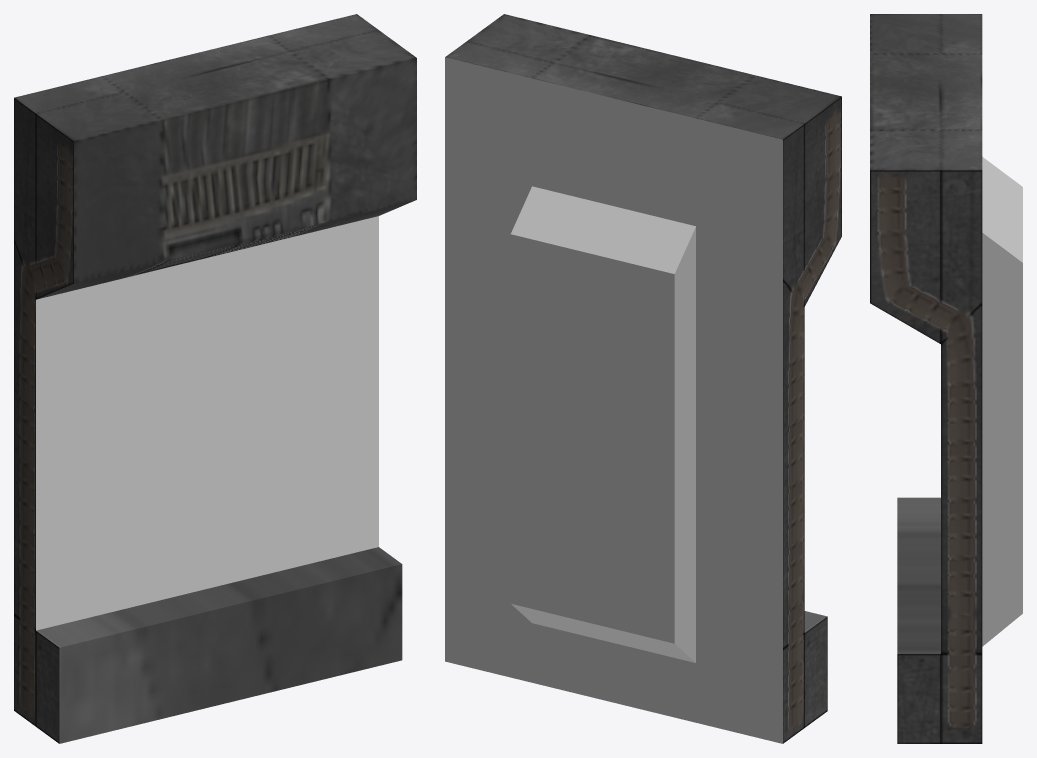
Rendered from panneau_1.fbx.
3 views of the same model, side by side, from view 1: azimuth 30°, elevation 25°; view 2: azimuth 150°, elevation 25°; view 3: azimuth 270°, elevation 25° (orthographic). The views are drawn at different scales.
Visible parts, largest first — view 1: Cube; view 2: Cube; view 3: Cube.
Part boxes in pixels (bbox=[...]): Cube: bbox=[14, 14, 416, 743]; Cube: bbox=[445, 14, 841, 743]; Cube: bbox=[870, 14, 1022, 743].
Bounding box in the file's own units: 200 × 342 × 82.6.
